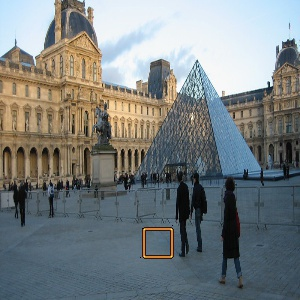square: (141, 226, 175, 261)
